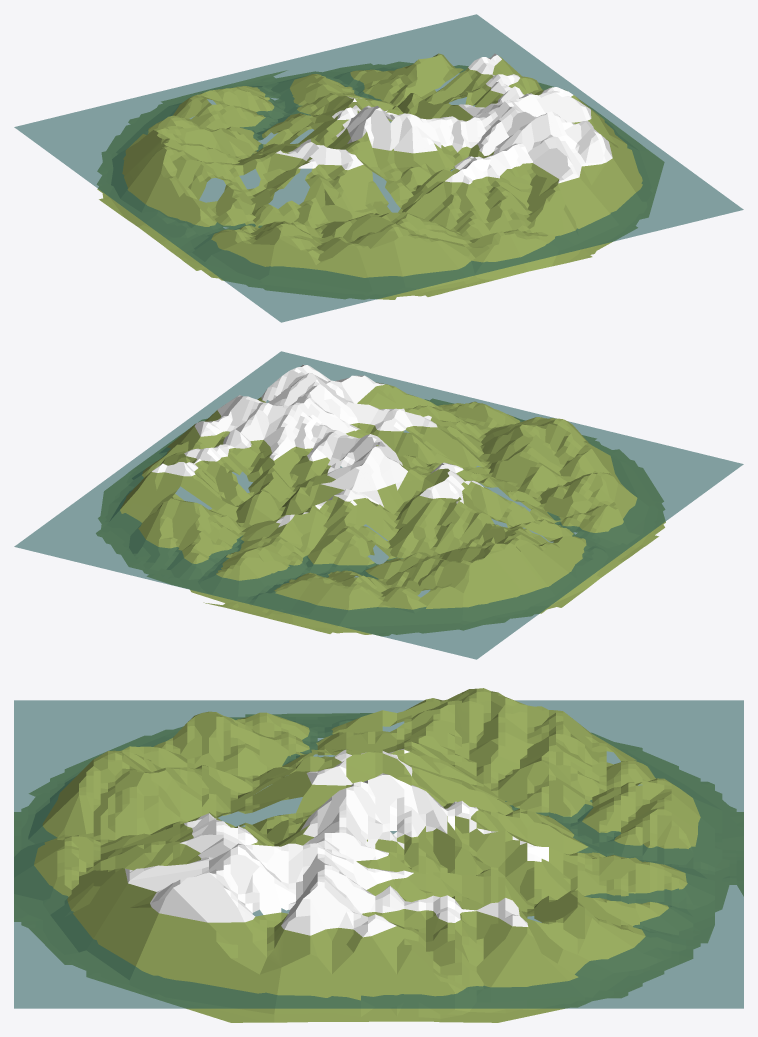
File: mountain.glb
3 views of the same model, one above another, from view 1: azimuth 30°, elevation 25°; view 2: azimuth 150°, elevation 25°; view 3: azimuth 270°, elevation 25° (orthographic). The views are drawn at different scales.
Parts seen in each view (by area): view 1: node_mountain_10944_1, node_water_11062_3; view 2: node_mountain_10944_1, node_water_11062_3; view 3: node_mountain_10944_1, node_water_11062_3.
Boxes of the visible parts, x1,y1,x2,y2 form: node_mountain_10944_1: (97,53,664,299); node_water_11062_3: (14,14,743,322); node_mountain_10944_1: (96,364,665,636); node_water_11062_3: (14,351,743,659); node_mountain_10944_1: (14,688,743,1022); node_water_11062_3: (14,700,743,1008).
Bounding box in the file's own units: 2250 × 352 × 2250.
